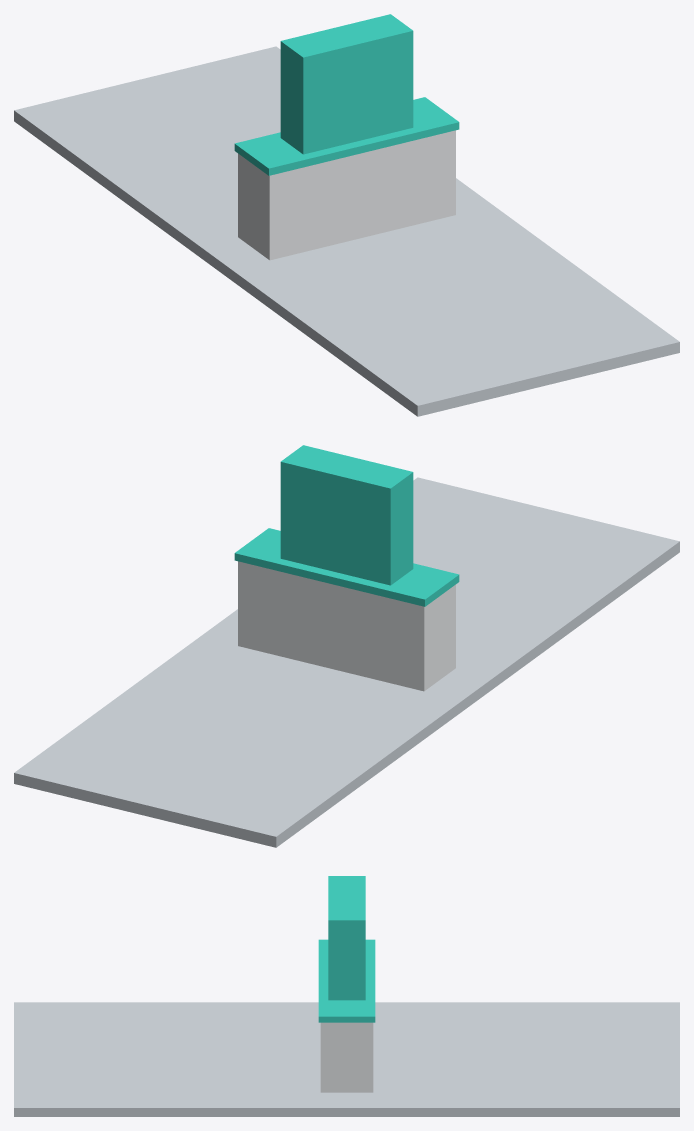
The picture shows the model from 3 angles, top to bottom: view 1: azimuth 30°, elevation 25°; view 2: azimuth 150°, elevation 25°; view 3: azimuth 270°, elevation 25°; orthographic projection. The views are drawn at different scales.
Parts seen in each view (by area): view 1: Exhibition Booth Concept; view 2: Exhibition Booth Concept; view 3: Exhibition Booth Concept.
Part boxes in pixels (x1,y1,x2,y2): Exhibition Booth Concept: (14, 14, 679, 416); Exhibition Booth Concept: (14, 445, 679, 847); Exhibition Booth Concept: (14, 876, 679, 1116).
Size of the model in its own units: 3 by 2.2 by 8.
